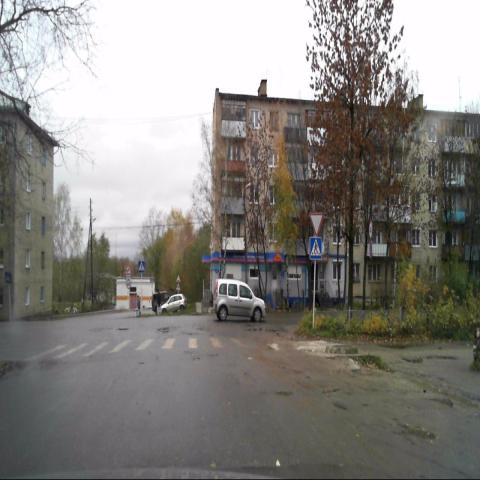2_4: (309, 211, 323, 237)
